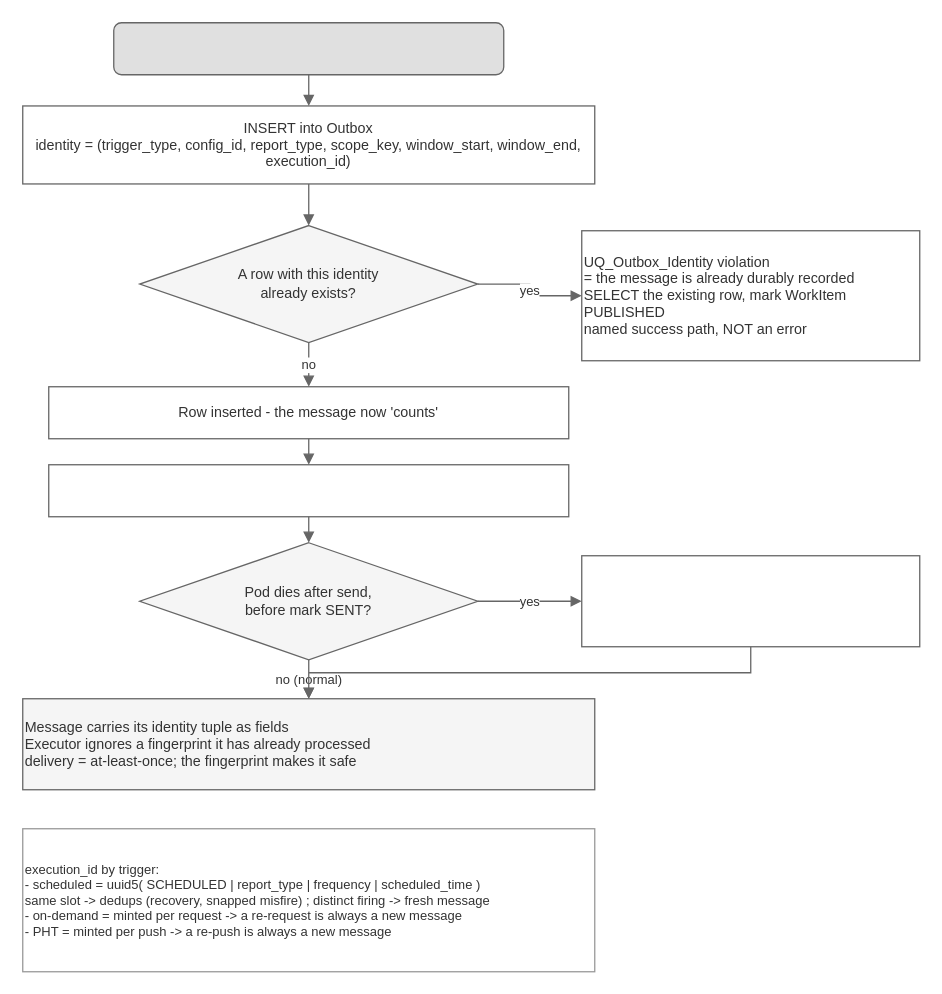
Image size: 942x994. Some labels were removed from this diagram. The shapes that lost their labels are listed below. From the top down, each one's centre as x and y in pixels, then its label:
(308,48): Message built for a WorkItem
(308,490): Relay claims the row -> sends to MQ -> marks SENT
(750,600): Another relay re-sends the same row -> Executor may receive a duplicate
